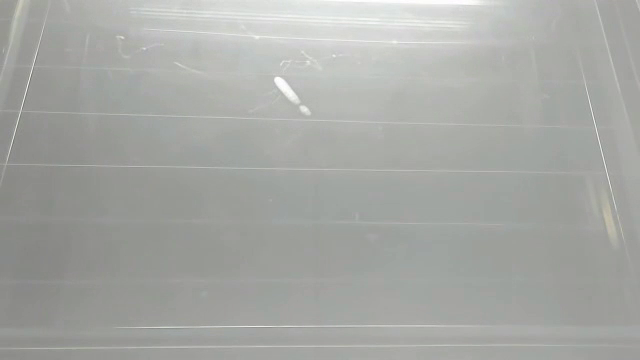alpha: (267, 73, 315, 119)
